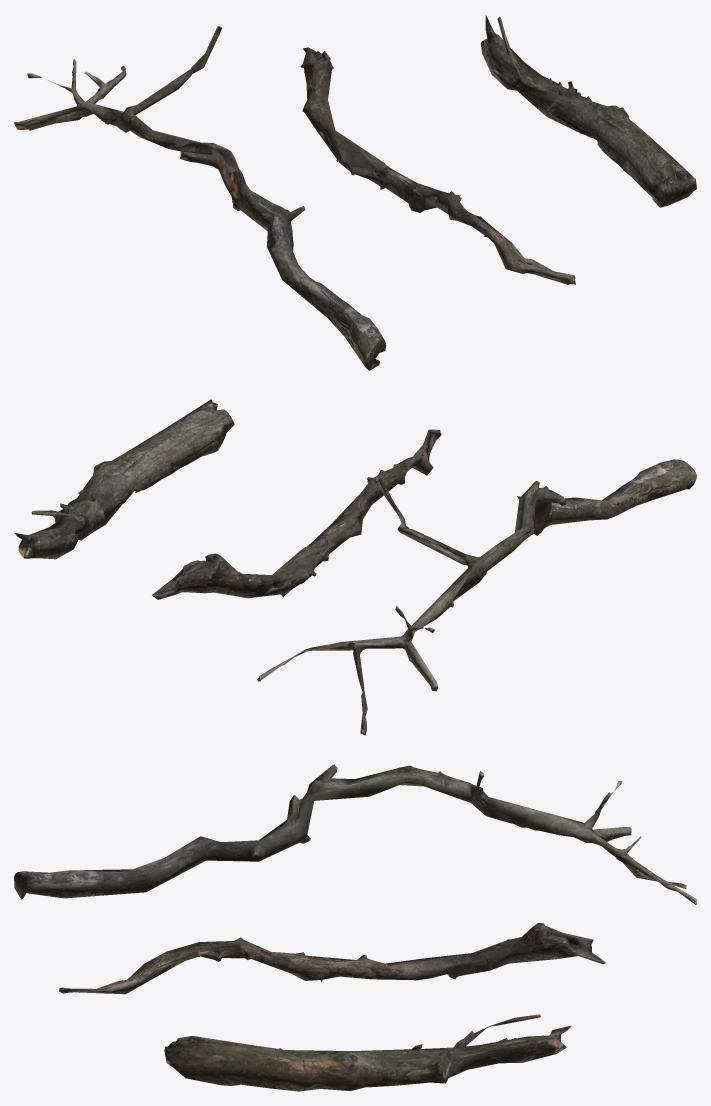
The model's file is dry_branches_medium_01.glb.
3 renders of one model, top to bottom at view 1: azimuth 30°, elevation 25°; view 2: azimuth 150°, elevation 25°; view 3: azimuth 270°, elevation 25°, orthographic. The views are drawn at different scales.
Parts seen in each view (by area): view 1: dry_branches_medium_01_c; view 2: dry_branches_medium_01_c; view 3: dry_branches_medium_01_c.
Part boxes in pixels (left/top/right/bottom): dry_branches_medium_01_c: left=14, top=15, right=696, bottom=370; dry_branches_medium_01_c: left=14, top=399, right=696, bottom=735; dry_branches_medium_01_c: left=14, top=764, right=696, bottom=1091.
Size of the model in its own units: 1.06 by 0.3401 by 1.3.
Materials: 1 (1 with a texture image).
